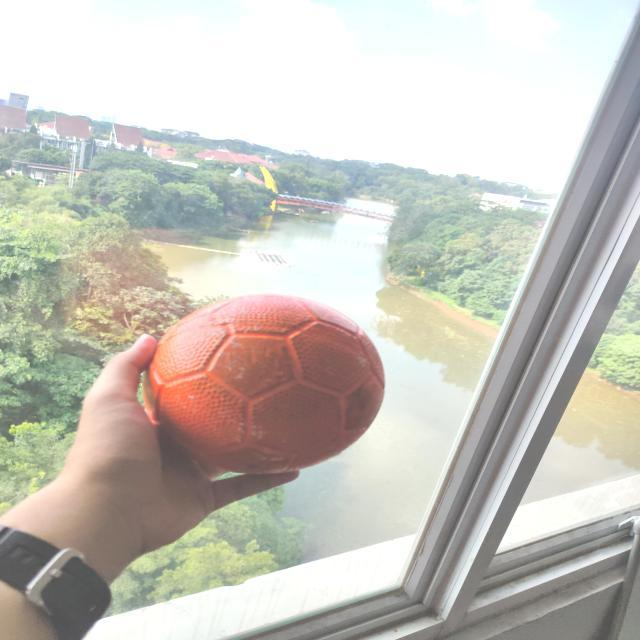bola: (132, 281, 399, 481)
